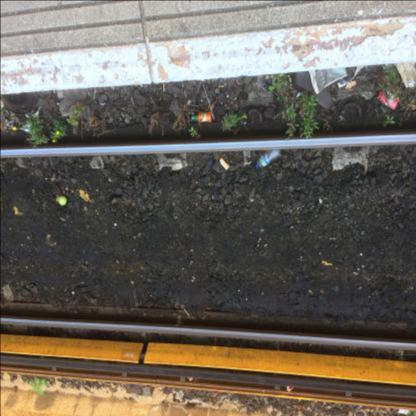Bottle cap: (255, 150, 281, 169), (192, 111, 212, 122), (12, 123, 31, 132)
Cigarette: (163, 84, 164, 91)
Other litter: (291, 71, 331, 109), (396, 62, 416, 86)
Other plastic: (219, 158, 229, 170), (58, 196, 66, 206)
Paper: (309, 67, 347, 94), (338, 65, 364, 88), (175, 389, 188, 404)
Plastic bag - wrapper: (376, 91, 399, 110)
Pop tab: (250, 199, 253, 201)
Straw: (203, 84, 214, 119)
Unlabeled litter: (405, 79, 415, 88), (287, 386, 294, 391), (187, 378, 193, 382), (205, 96, 209, 100), (132, 201, 135, 206), (219, 77, 222, 82)
